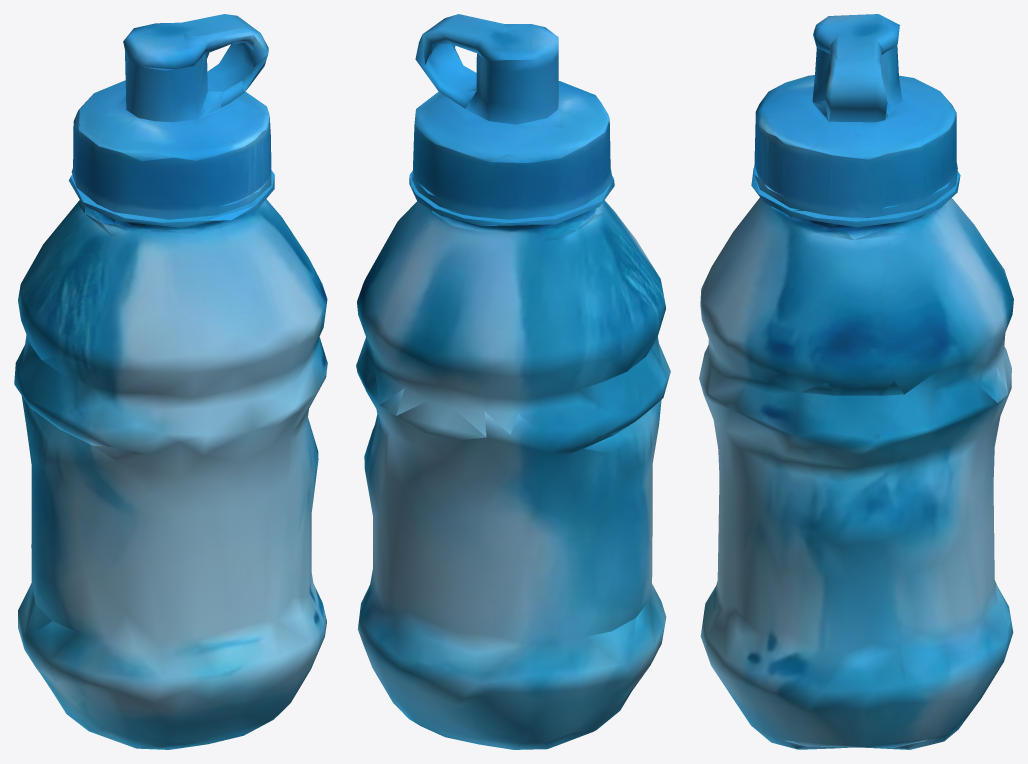
Rendered from plasticBottle.glb.
3 views of the same model, side by side, from view 1: azimuth 30°, elevation 25°; view 2: azimuth 150°, elevation 25°; view 3: azimuth 270°, elevation 25° (orthographic). The views are drawn at different scales.
Parts seen in each view (by area): view 1: model; view 2: model; view 3: model.
Boxes of the visible parts, box(x1,y1,x2,y2) form: model: box(14, 14, 327, 749); model: box(356, 14, 670, 749); model: box(699, 14, 1013, 749).
Bounding box in the file's own units: 0.7829 × 1.9 × 0.7776.
1 material, 1 textured.
